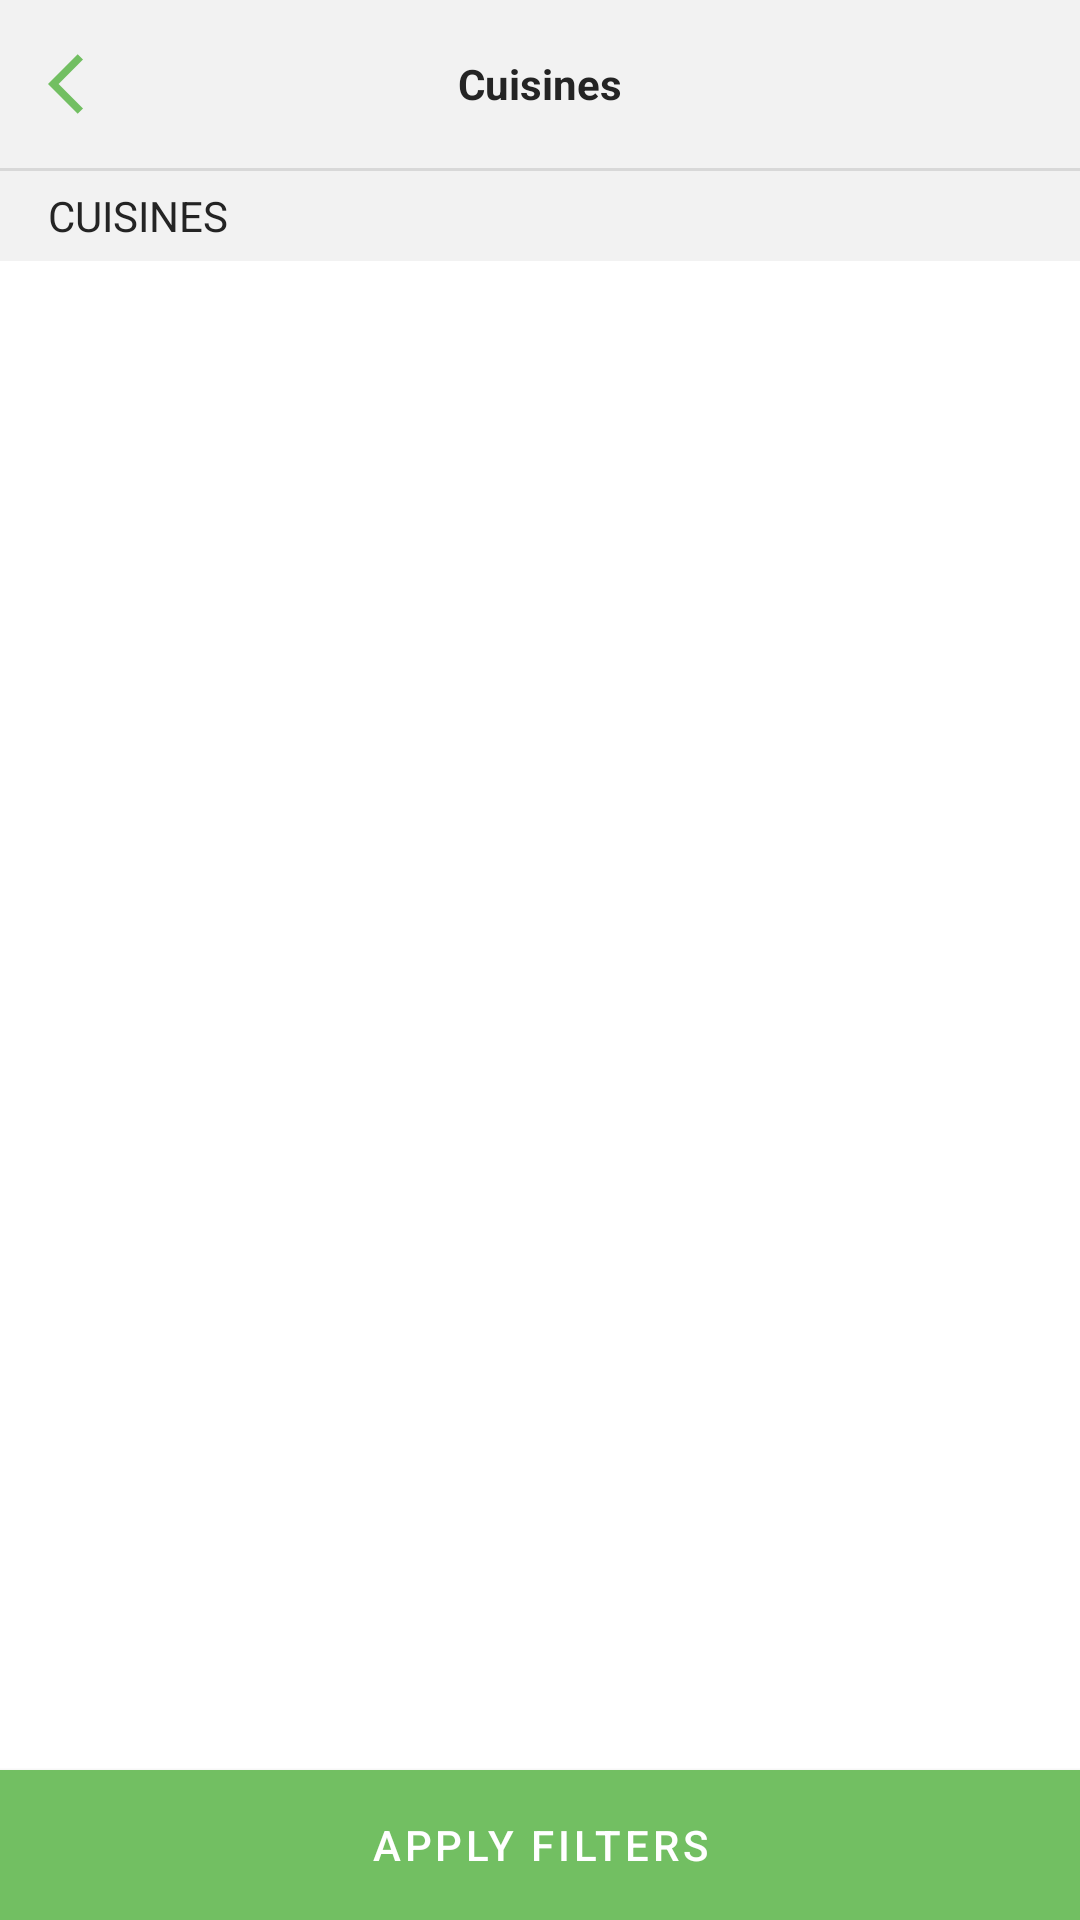

Screen size 1080*1920. Icon name, then its center in pixels as (x=x, y=y):
arrow back: (x=65, y=84)
